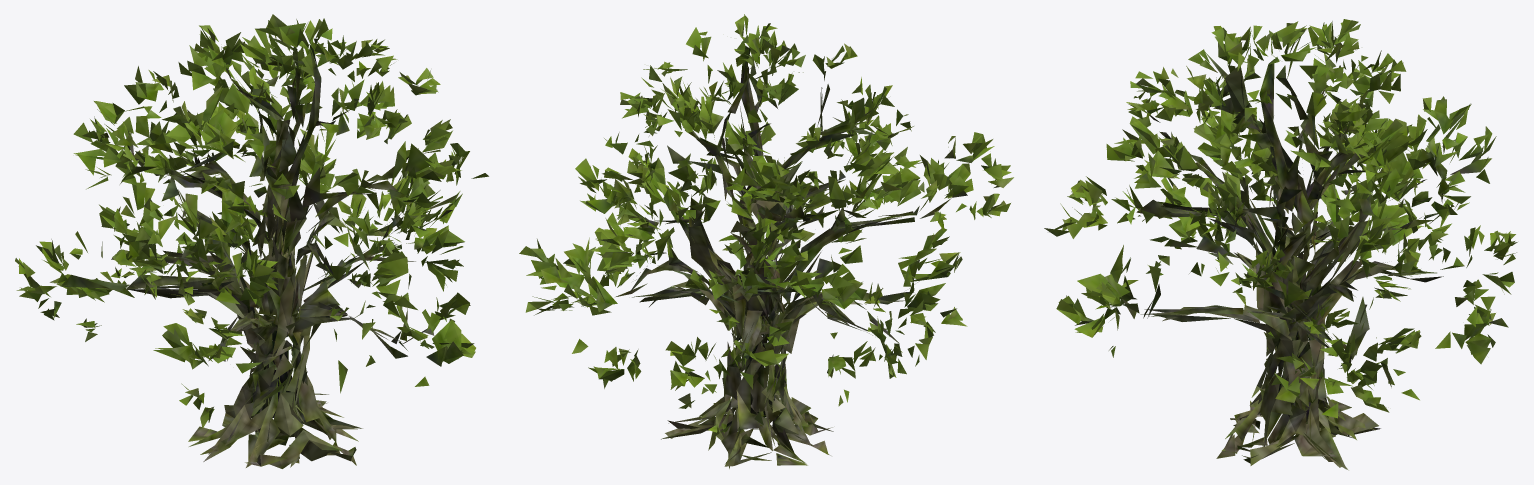
Rendered from carvalho_aster_jovem.glb.
3 renders of one model, left to right at view 1: azimuth 30°, elevation 25°; view 2: azimuth 150°, elevation 25°; view 3: azimuth 270°, elevation 25°, orthographic. The views are drawn at different scales.
Parts seen in each view (by area): view 1: geometry_0; view 2: geometry_0; view 3: geometry_0.
Boxes of the visible parts, bbox=[...] form: geometry_0: bbox=[15, 14, 488, 468]; geometry_0: bbox=[519, 14, 1013, 468]; geometry_0: bbox=[1044, 19, 1517, 470].
Size of the model in its own units: 0.9848 by 0.9393 by 0.9545.
1 material, 1 textured.
